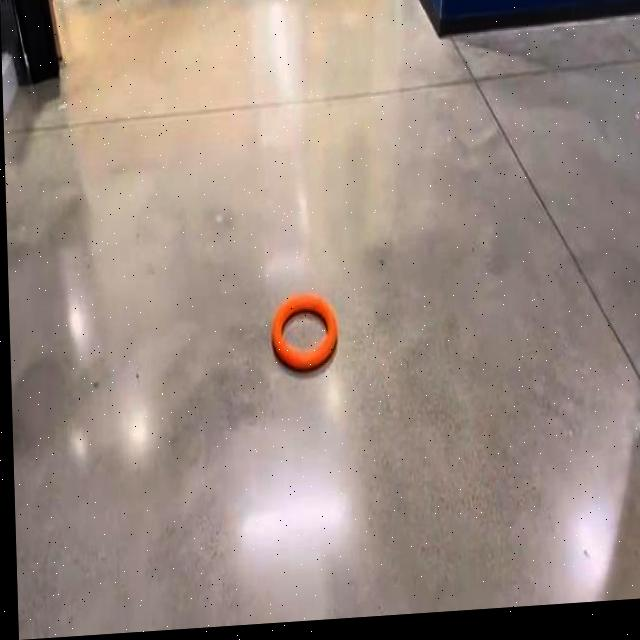note: (268, 296, 336, 376)
